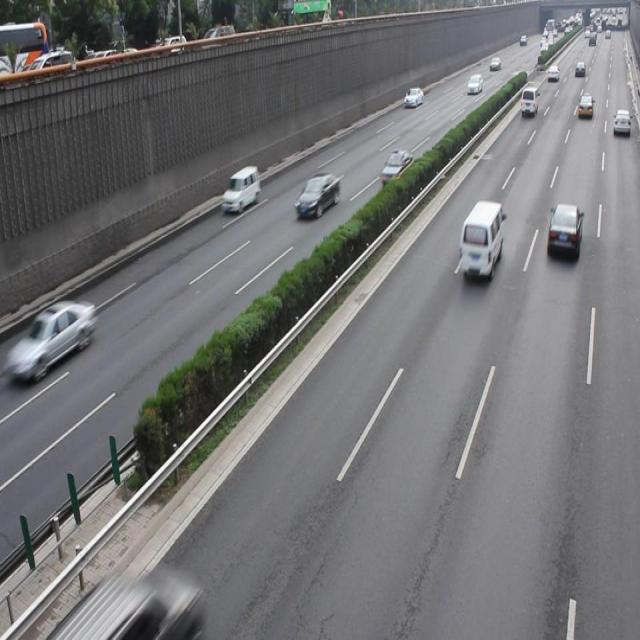car: (14, 297, 97, 376), (545, 202, 580, 261), (295, 172, 340, 216), (222, 165, 260, 211), (380, 149, 412, 185)
truck: (459, 199, 502, 279)
